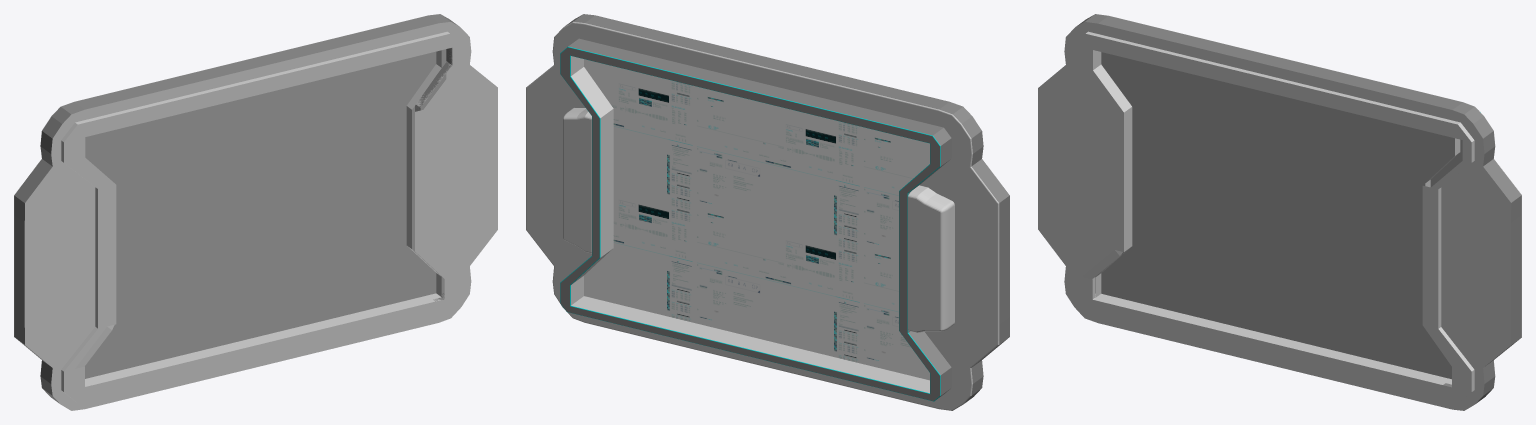
Rendered from SCREEN colored.fbx.
3 renders of one model, left to right at view 1: azimuth 30°, elevation 25°; view 2: azimuth 150°, elevation 25°; view 3: azimuth 330°, elevation 25°, orthographic.
Visible parts, largest first — view 1: polySurface4; view 2: polySurface4; view 3: polySurface4.
Part boxes in pixels (x1,y1,x2,y2): polySurface4: (14,14,497,410); polySurface4: (526,14,1009,410); polySurface4: (1038,14,1521,410).
Bounding box in the file's own units: 7.57 × 4.58 × 0.7002.
6 materials, 1 textured.
